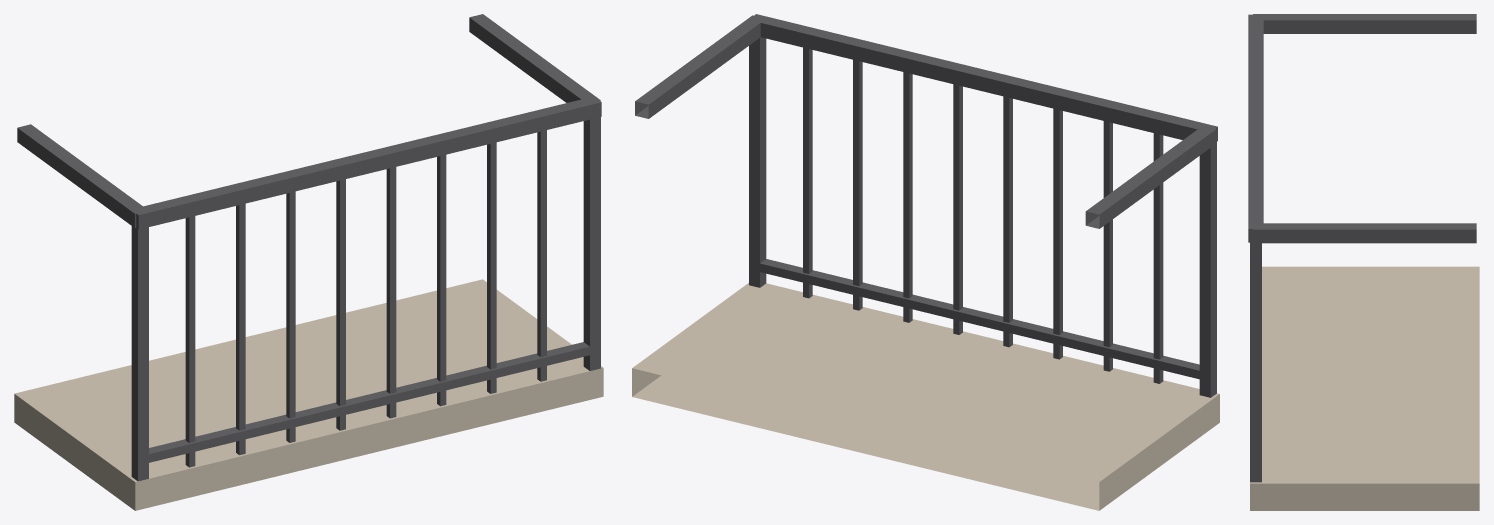
Rendered from Balcony.glb.
3 renders of one model, left to right at view 1: azimuth 30°, elevation 25°; view 2: azimuth 150°, elevation 25°; view 3: azimuth 270°, elevation 25°, orthographic. The views are drawn at different scales.
Visible parts, largest first — view 1: Balcony_cube.007, Balcony_cube.008, Balcony_cube.021, Balcony_cube.010, Balcony_cube.012, Balcony_cube.009, Balcony_cube.011, Balcony_cube.013, Balcony_cube.017, Balcony_cube.018, Balcony_cube.014, Balcony_cube.015 (+3 smaller); view 2: Balcony_cube.007, Balcony_cube.008, Balcony_cube.021, Balcony_cube.010, Balcony_cube.012, Balcony_cube.009, Balcony_cube.011, Balcony_cube.016, Balcony_cube.017, Balcony_cube.015, Balcony_cube.018, Balcony_cube.020 (+3 smaller); view 3: Balcony_cube.007, Balcony_cube.011, Balcony_cube.009, Balcony_cube.008, Balcony_cube.012.
Boxes of the visible parts, x1,y1,x2,y2 form: Balcony_cube.007: [14, 279, 603, 510]; Balcony_cube.008: [131, 96, 601, 229]; Balcony_cube.021: [131, 342, 600, 464]; Balcony_cube.010: [131, 226, 148, 481]; Balcony_cube.012: [583, 117, 600, 370]; Balcony_cube.009: [17, 124, 147, 227]; Balcony_cube.011: [469, 14, 600, 103]; Balcony_cube.013: [185, 216, 195, 467]; Balcony_cube.017: [386, 167, 396, 418]; Balcony_cube.018: [437, 155, 446, 406]; Balcony_cube.014: [236, 203, 245, 455]; Balcony_cube.015: [286, 191, 295, 442]; Balcony_cube.007: [632, 283, 1219, 510]; Balcony_cube.008: [748, 14, 1217, 141]; Balcony_cube.021: [749, 259, 1199, 379]; Balcony_cube.010: [1199, 143, 1216, 397]; Balcony_cube.012: [749, 37, 766, 287]; Balcony_cube.009: [1085, 126, 1216, 228]; Balcony_cube.011: [635, 15, 764, 118]; Balcony_cube.016: [1003, 96, 1012, 347]; Balcony_cube.017: [953, 84, 962, 334]; Balcony_cube.015: [1053, 108, 1062, 359]; Balcony_cube.018: [903, 72, 912, 322]; Balcony_cube.020: [803, 47, 812, 298]; Balcony_cube.007: [1250, 266, 1479, 510]; Balcony_cube.011: [1253, 223, 1476, 243]; Balcony_cube.009: [1253, 14, 1476, 33]; Balcony_cube.008: [1248, 14, 1263, 242]; Balcony_cube.012: [1250, 236, 1261, 482].
Size of the model in its own units: 1.7 by 1.02 by 0.765.
